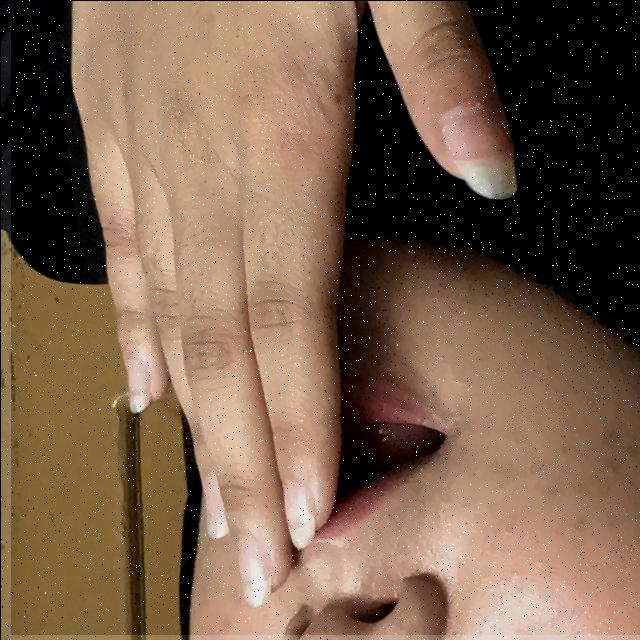ngantuk: (10, 0, 640, 634)
